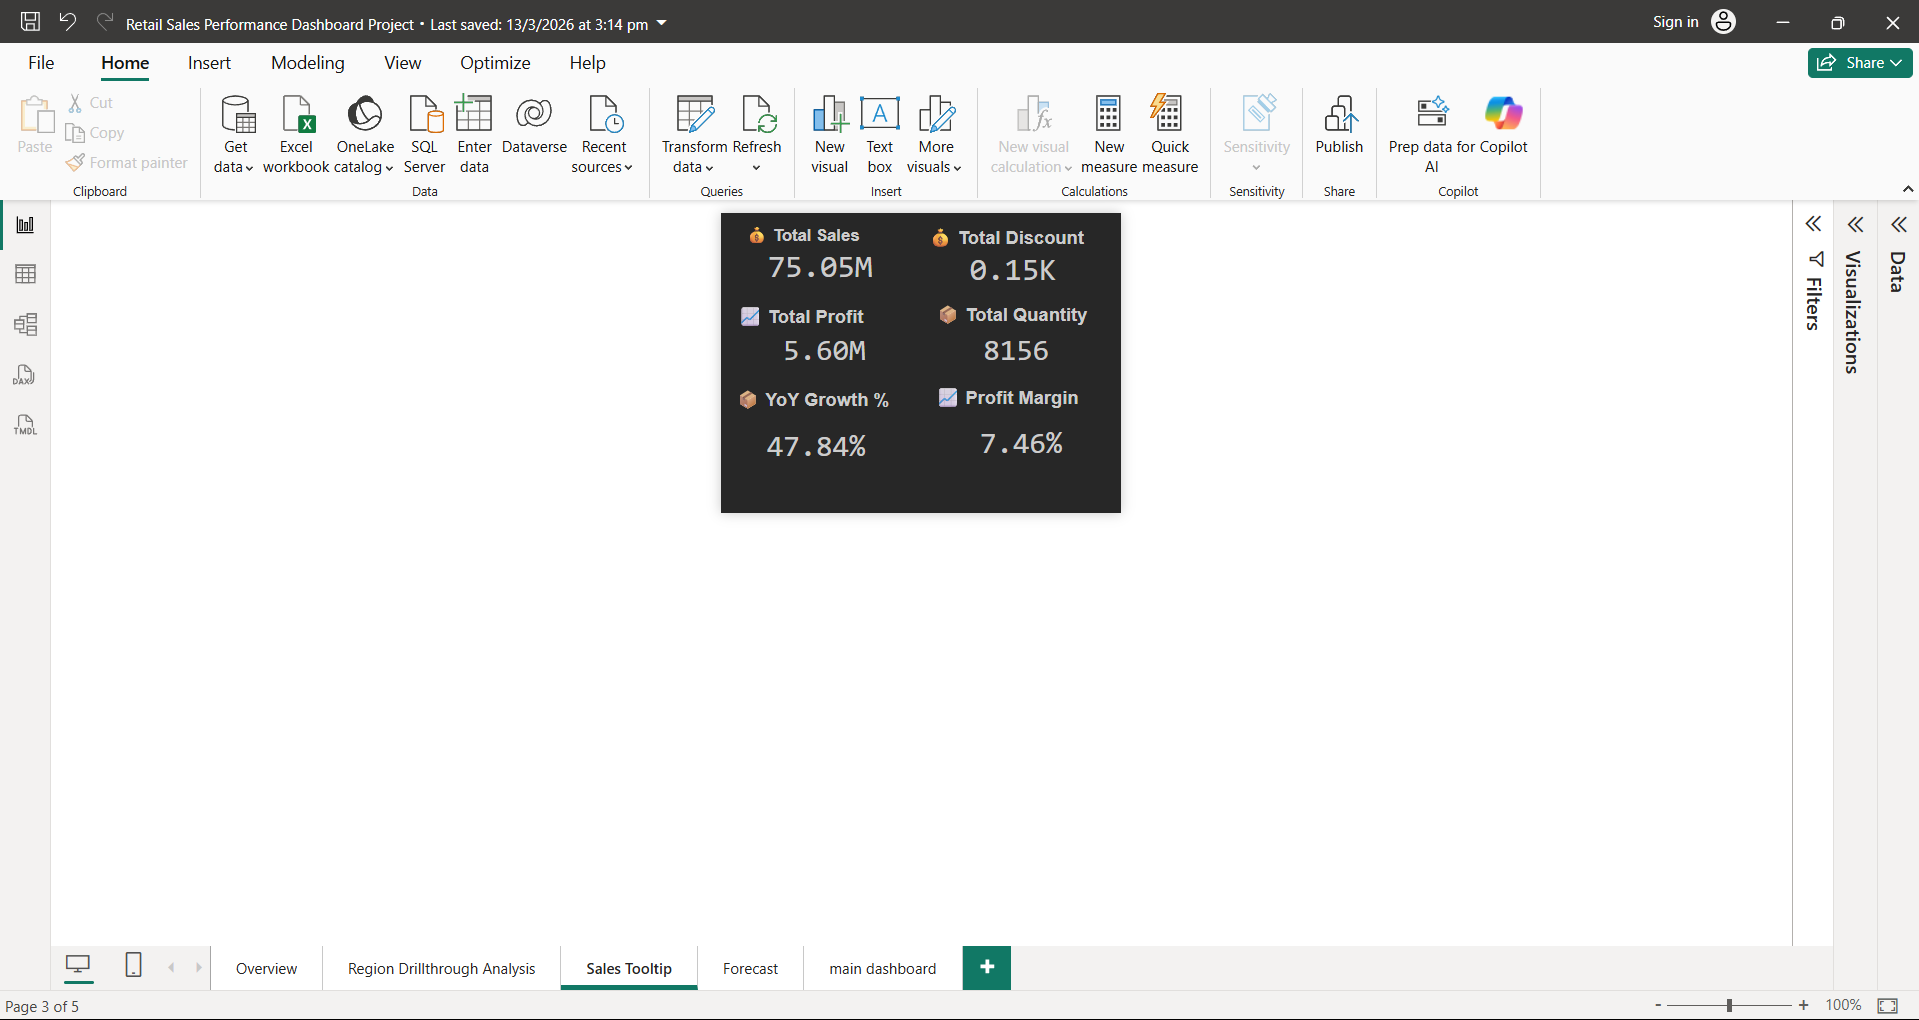

The page's visual inventory and layout, read from the dashboard file:
{"tool":"powerbi","page":{"name":"Sales Tooltip","canvas":[320,240],"ordinal":2},"visuals":[{"type":"card","title":"💰 Total Sales","fields":{"Values":["SALES DATASET.Total Sales"]},"box":[14,8,129,55],"z":0},{"type":"card","title":"📈 Total Profit","fields":{"Values":["SALES DATASET.Total Profit"]},"box":[8,72,148,59],"z":1000},{"type":"card","title":"📦 Total Quantity","fields":{"Values":["SALES DATASET.Total Quantity"]},"box":[166,70,139,63],"z":2000},{"type":"card","title":"💰 Total Discount","fields":{"Values":["Sum(SALES DATASET.Discount)"]},"box":[160,9,146,55],"z":3000},{"type":"card","title":"📦 YoY Growth %","fields":{"Values":["SALES DATASET.YoY Growth %"]},"box":[6,138,139,81],"z":4000},{"type":"card","title":"📦 YoY Sales Growth","fields":{"Values":["SALES DATASET.YoY Sales Growth"]},"box":[141,137,172,77],"z":5000}]}

Visuals, with their boxes on the page's 320x240 design canvas (x1, y1, x2, y2). These are canvas units, not pixel positions in the 1919x1020 screenshot, which may show the page scaled, cropped or inside an application window:
"💰 Total Sales" card: 14, 8, 143, 63
"📈 Total Profit" card: 8, 72, 156, 131
"📦 Total Quantity" card: 166, 70, 305, 133
"💰 Total Discount" card: 160, 9, 306, 64
"📦 YoY Growth %" card: 6, 138, 145, 219
"📦 YoY Sales Growth" card: 141, 137, 313, 214
